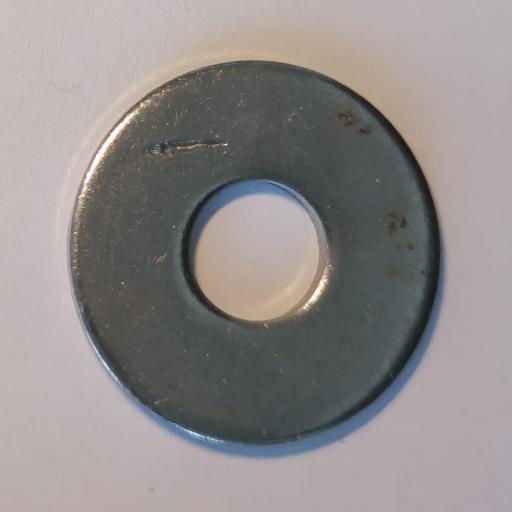scratch: (142, 138, 229, 158)
